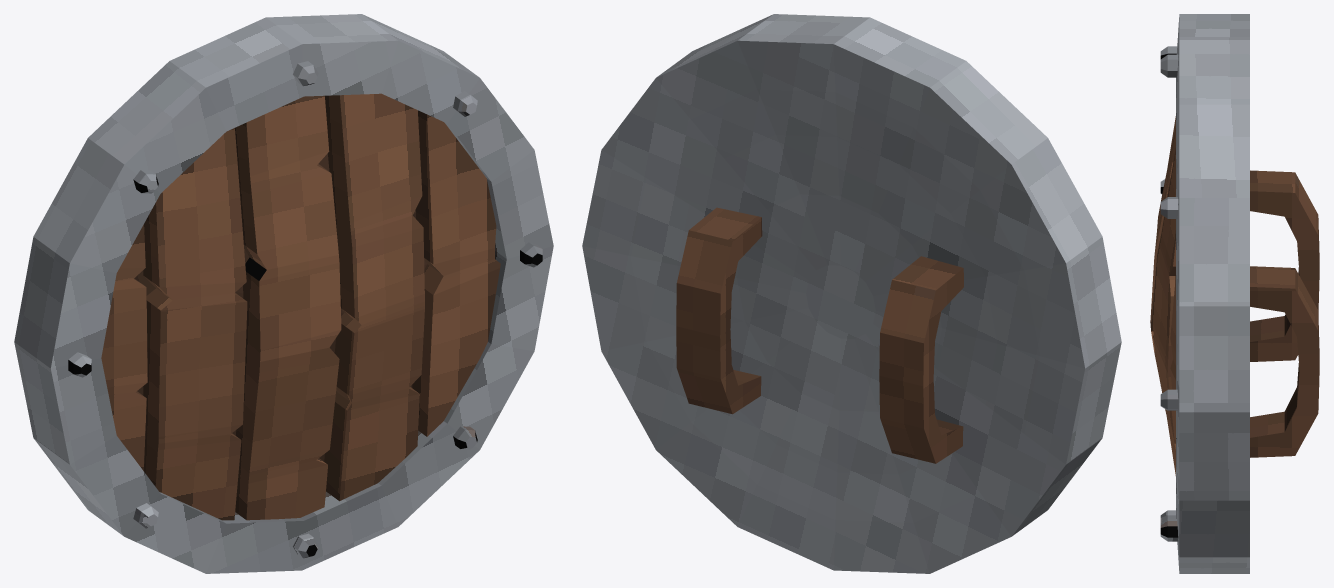
The model's file is shield_round.glb.
The picture shows the model from 3 angles, left to right: view 1: azimuth 30°, elevation 25°; view 2: azimuth 150°, elevation 25°; view 3: azimuth 270°, elevation 25°; orthographic projection. The views are drawn at different scales.
Parts seen in each view (by area): view 1: Shield_Round; view 2: Shield_Round; view 3: Shield_Round.
Boxes of the visible parts, x1,y1,x2,y2 form: Shield_Round: (14, 14, 553, 573); Shield_Round: (582, 14, 1121, 573); Shield_Round: (1150, 14, 1319, 573).
Size of the model in its own units: 0.7 by 0.7 by 0.2113.
Materials: 1 (1 with a texture image).
